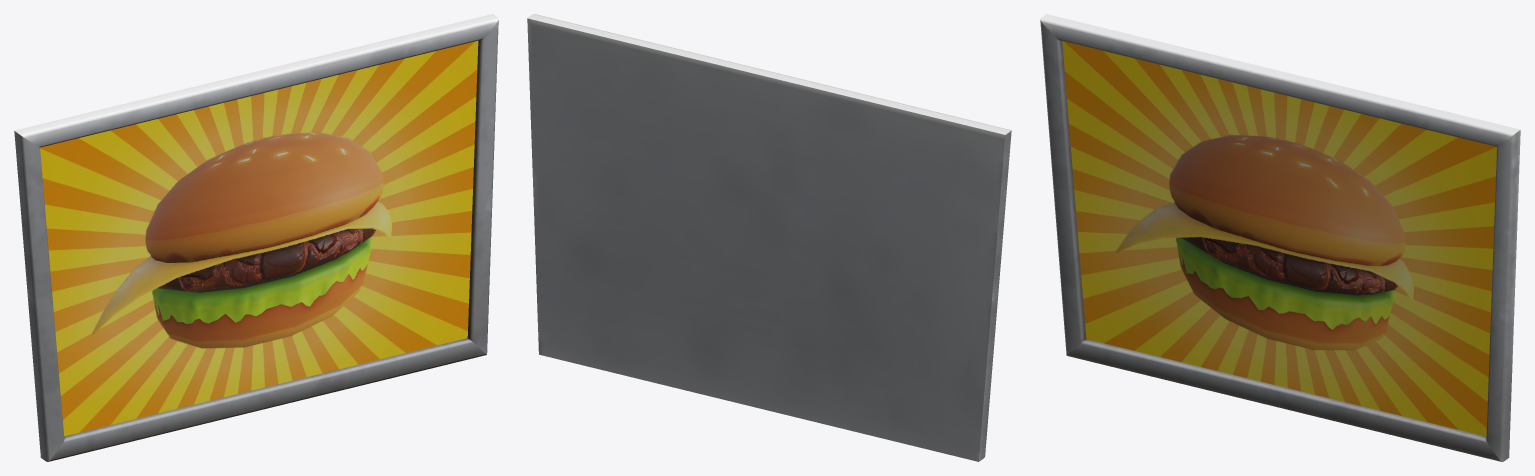
The model's file is CafePicture01_1.FBX.
3 views of the same model, side by side, from view 1: azimuth 30°, elevation 25°; view 2: azimuth 150°, elevation 25°; view 3: azimuth 330°, elevation 25° (orthographic).
Visible parts, largest first — view 1: CafePicture01_1; view 2: CafePicture01_1; view 3: CafePicture01_1.
Boxes of the visible parts, left/top/right/bottom form: CafePicture01_1: left=14, top=14, right=498, bottom=461; CafePicture01_1: left=527, top=14, right=1011, bottom=461; CafePicture01_1: left=1040, top=14, right=1520, bottom=461.
Size of what is drawn, in the model's own units: 1.5 by 1 by 0.04.
